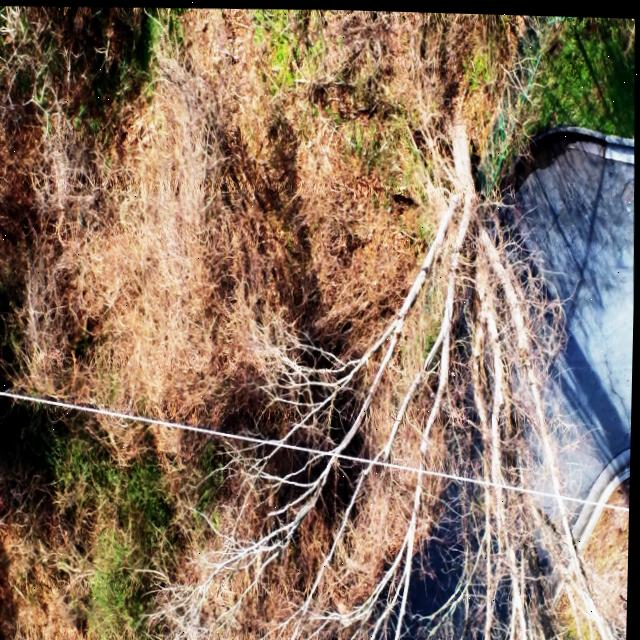wires: (0, 389, 560, 495), (563, 491, 631, 508)
